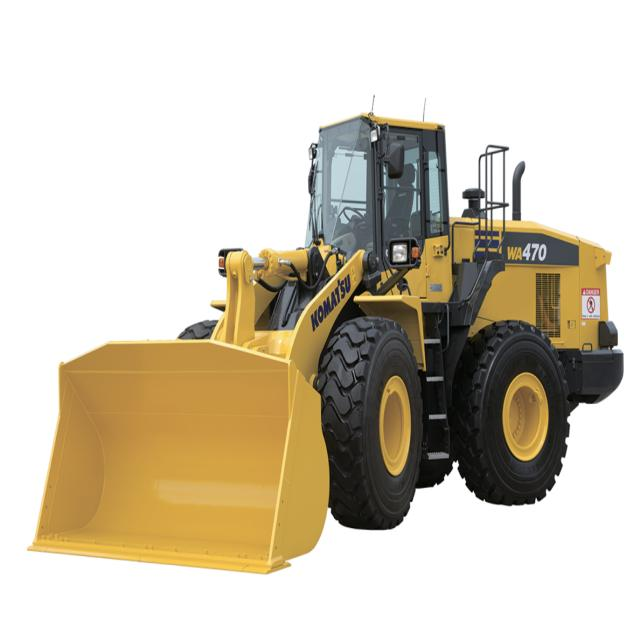buldozerpayloadergrader: (28, 100, 626, 574)
